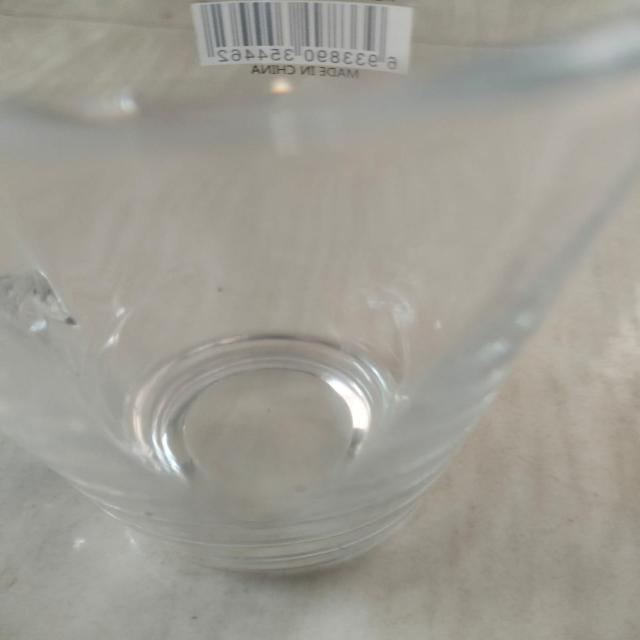glass-VX4N: (0, 0, 640, 578)
